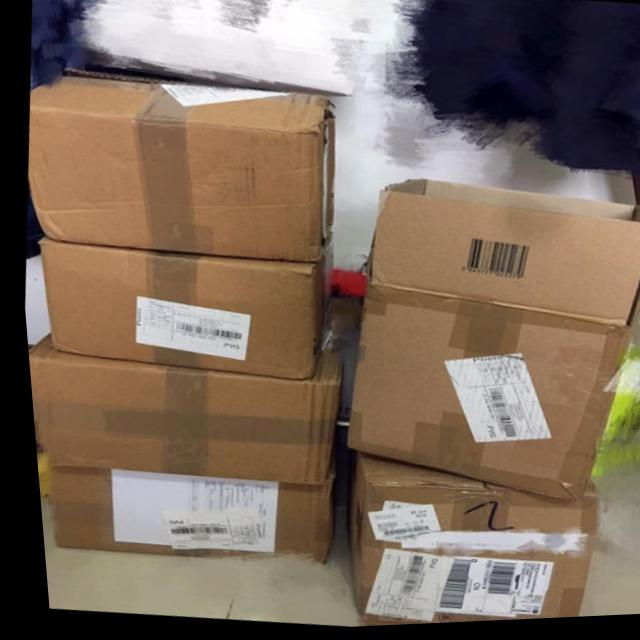box: (339, 180, 640, 503), (24, 64, 335, 267), (22, 333, 341, 489), (330, 453, 587, 628), (33, 238, 333, 381), (40, 464, 334, 566)
